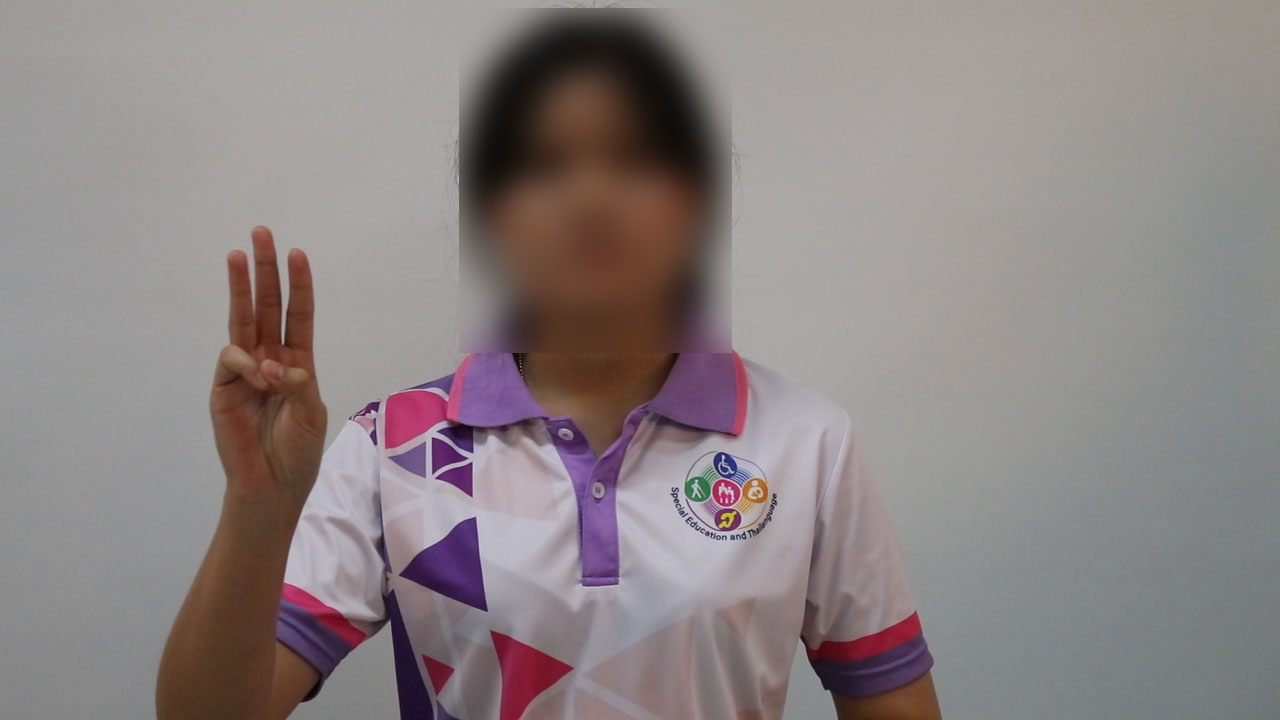wor: (202, 219, 336, 515)
